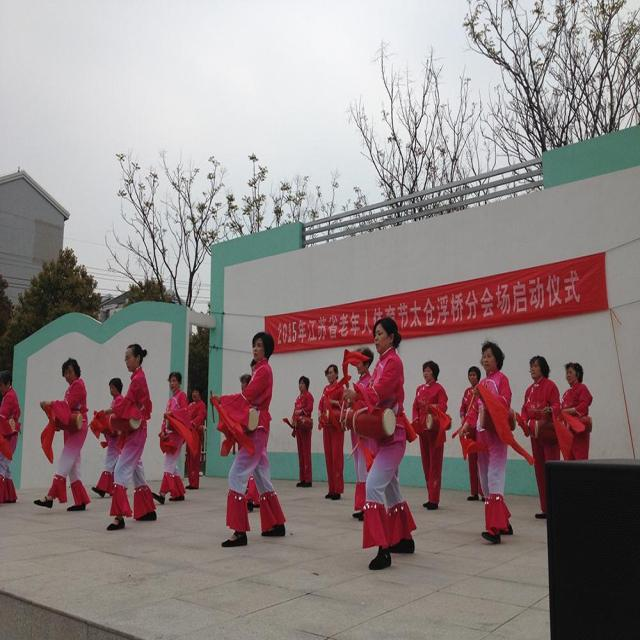non-fight: (344, 316, 415, 570), (220, 328, 283, 548), (461, 340, 525, 544), (93, 341, 160, 531), (38, 354, 96, 513), (412, 358, 454, 512), (156, 371, 200, 504), (560, 360, 593, 463), (288, 372, 316, 491), (0, 368, 22, 506)
